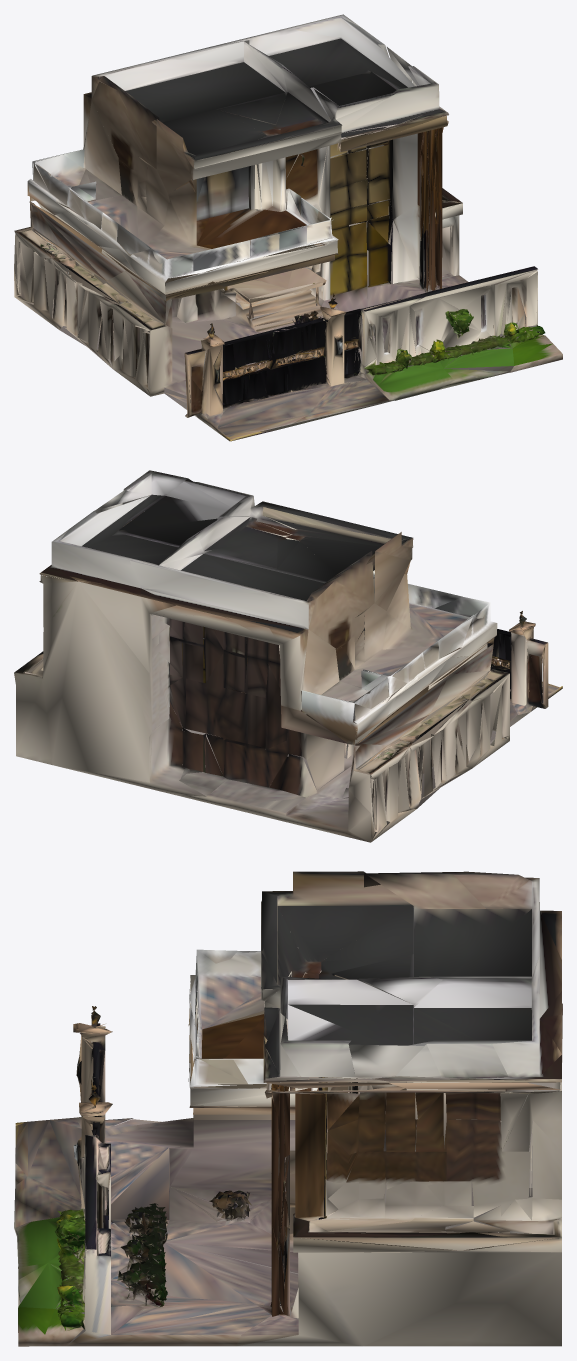
File: World2d0ed1f7b1.glb
The picture shows the model from 3 angles, top to bottom: view 1: azimuth 30°, elevation 25°; view 2: azimuth 150°, elevation 25°; view 3: azimuth 270°, elevation 25°; orthographic projection. The views are drawn at different scales.
Visible parts, largest first — view 1: World2d0ed1f7b1; view 2: World2d0ed1f7b1; view 3: World2d0ed1f7b1.
Boxes of the visible parts, x1,y1,x2,y2 form: World2d0ed1f7b1: [14, 14, 562, 441]; World2d0ed1f7b1: [14, 470, 562, 842]; World2d0ed1f7b1: [14, 871, 562, 1346].
Size of the model in its own units: 7.01 by 4.12 by 7.02.
1 material, 1 textured.
